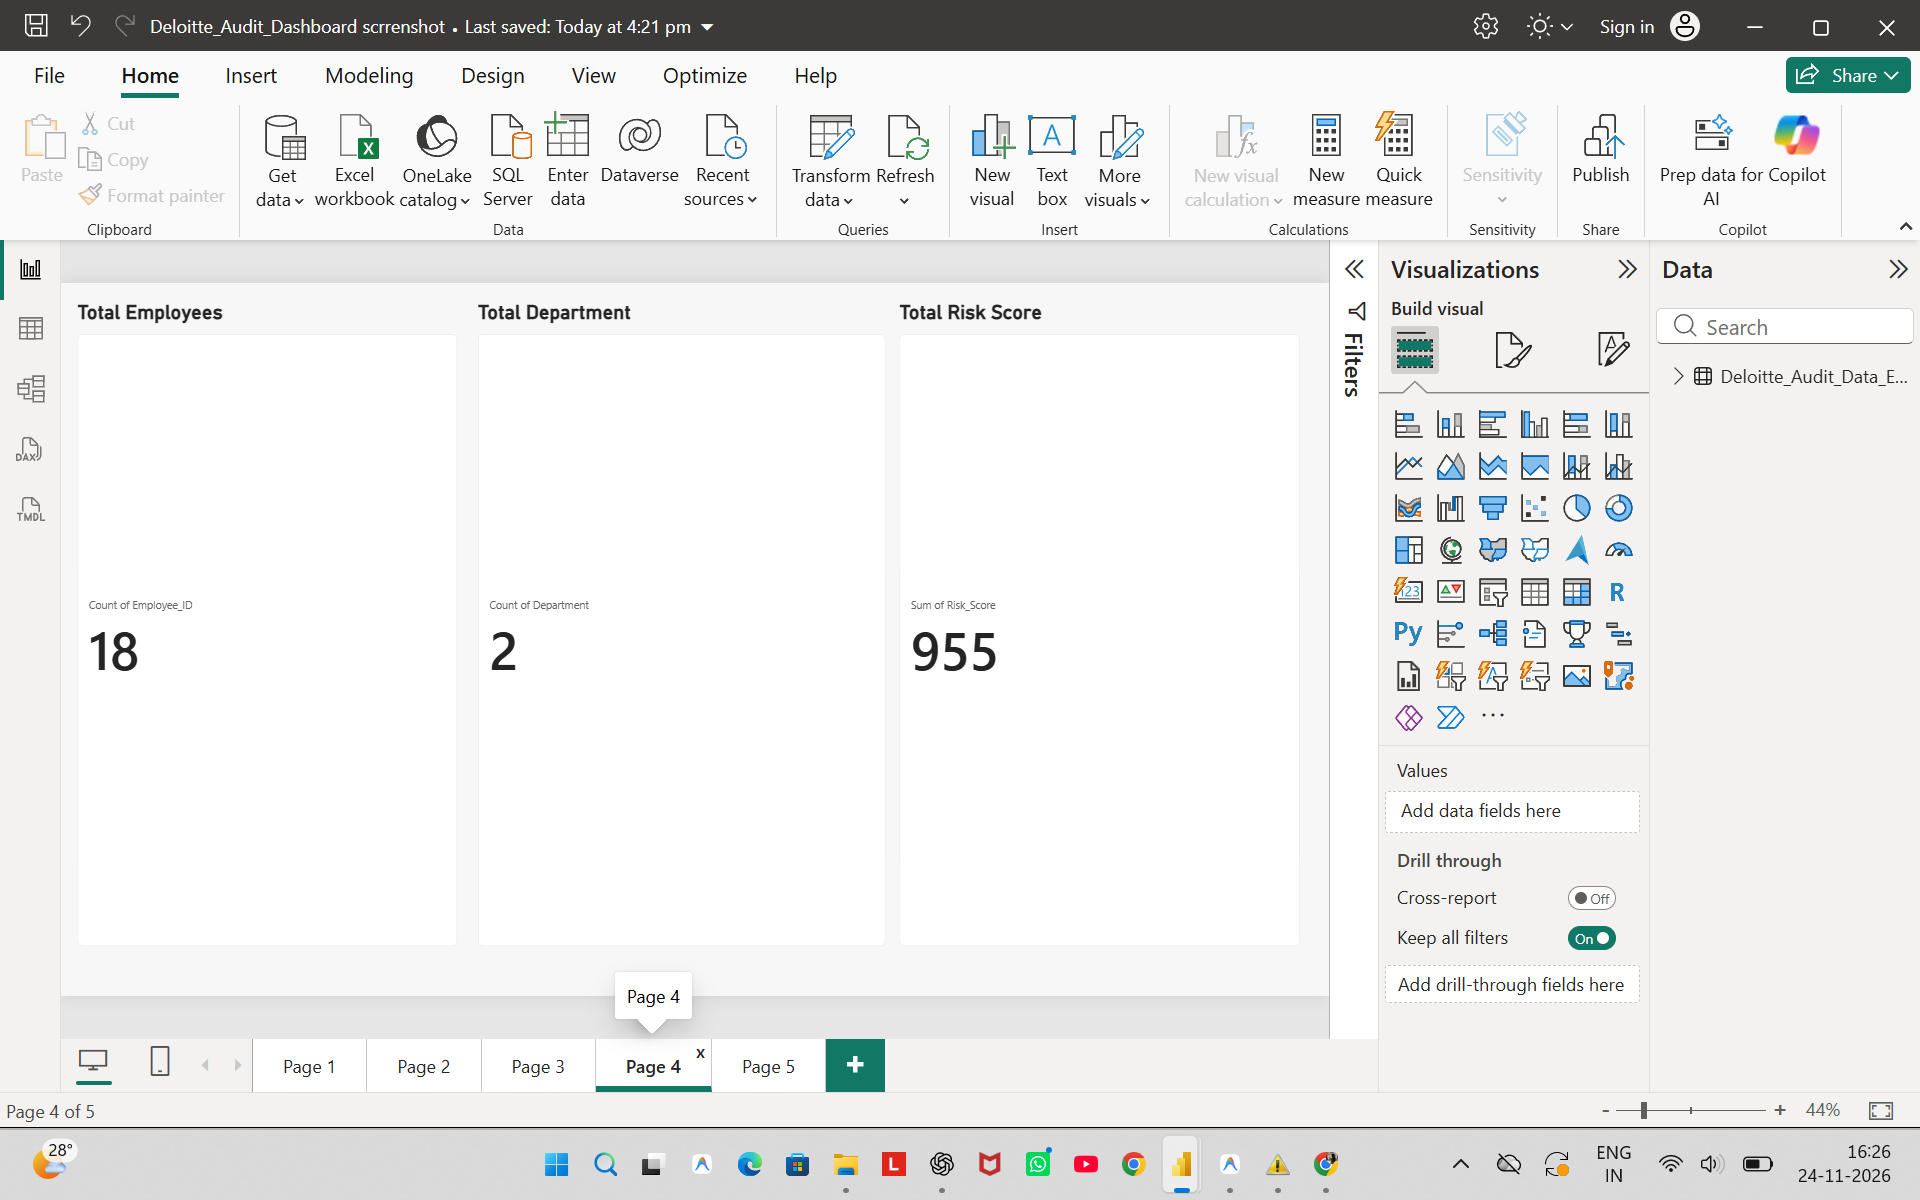

The dashboard page shown, as its layout file describes it:
{"tool":"powerbi","page":{"name":"Page 4","canvas":[1920,1080],"ordinal":3},"visuals":[{"type":"cardVisual","title":"Total Employees","fields":{"Data":["CountNonNull(Deloitte_Audit_Data_Export_2026.Employee_ID)"]},"box":[25.5,28.3,575.4,978],"z":0},{"type":"cardVisual","title":"Total Department","fields":{"Data":["Count(Deloitte_Audit_Data_Export_2026.Department)"]},"box":[632.1,28.3,618,978],"z":1},{"type":"cardVisual","title":"Total Risk Score","fields":{"Data":["Sum(Deloitte_Audit_Data_Export_2026.Risk_Score)"]},"box":[1269.9,28.3,606.6,978],"z":2}]}

Visuals, with their boxes on the page's 1920x1080 design canvas (x1, y1, x2, y2). These are canvas units, not pixel positions in the 1920x1200 screenshot, which may show the page scaled, cropped or inside an application window:
"Total Employees" cardVisual: [x1=26, y1=28, x2=601, y2=1006]
"Total Department" cardVisual: [x1=632, y1=28, x2=1250, y2=1006]
"Total Risk Score" cardVisual: [x1=1270, y1=28, x2=1876, y2=1006]
